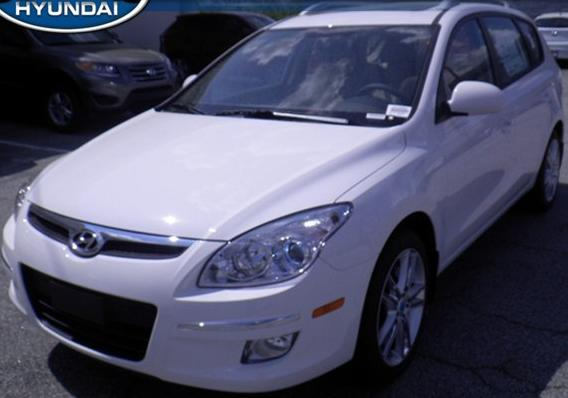front_view: (0, 170, 360, 394)
headlight: (198, 205, 353, 287)
side_glass: (439, 6, 551, 120)
